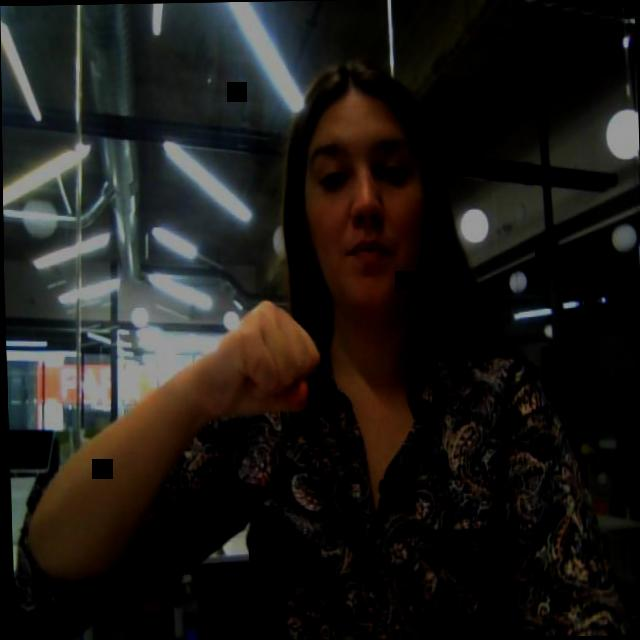Rock: (192, 298, 321, 426)
